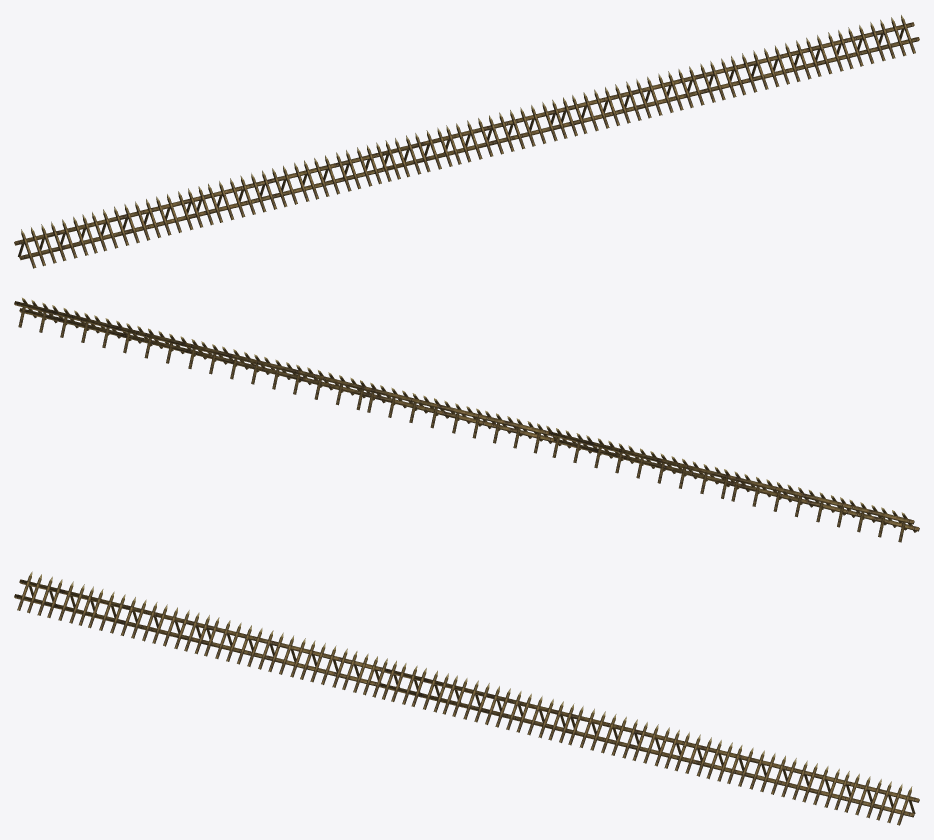
Rendered from bagh_barricade02.glb.
3 renders of one model, top to bottom at view 1: azimuth 30°, elevation 25°; view 2: azimuth 150°, elevation 25°; view 3: azimuth 330°, elevation 25°, orthographic.
Visible parts, largest first — view 1: res\bldg\arabia\bagh_city\event\bagh_barricade02.bsr; view 2: res\bldg\arabia\bagh_city\event\bagh_barricade02.bsr; view 3: res\bldg\arabia\bagh_city\event\bagh_barricade02.bsr.
Boxes of the visible parts, x1,y1,x2,y2 form: res\bldg\arabia\bagh_city\event\bagh_barricade02.bsr: (14, 15, 919, 268); res\bldg\arabia\bagh_city\event\bagh_barricade02.bsr: (14, 297, 919, 542); res\bldg\arabia\bagh_city\event\bagh_barricade02.bsr: (14, 571, 919, 825).
Size of the model in its own units: 409 by 13.28 by 13.4.
Materials: 1 (1 with a texture image).
